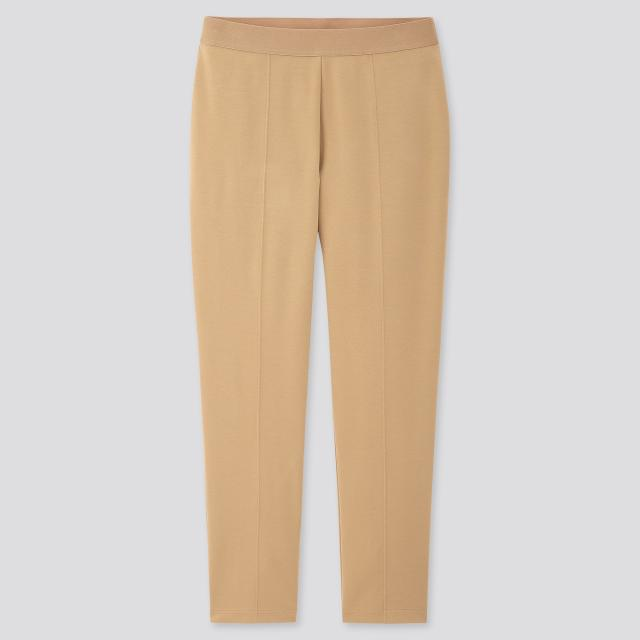long-pants: (189, 16, 452, 630)
